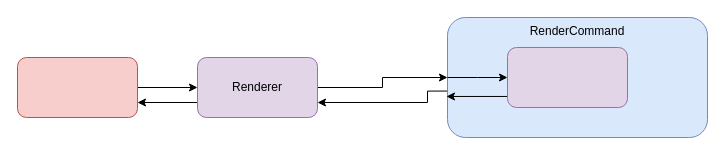
Image size: 725x155. Some labels were removed from this diagram. Each missing label, with the centre of its shape:
Engine System: (77,87)
RendererAPI: (567,77)
